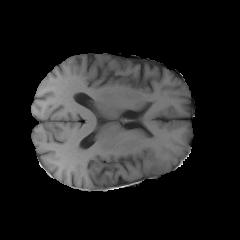glioma: (130, 140, 171, 176)
